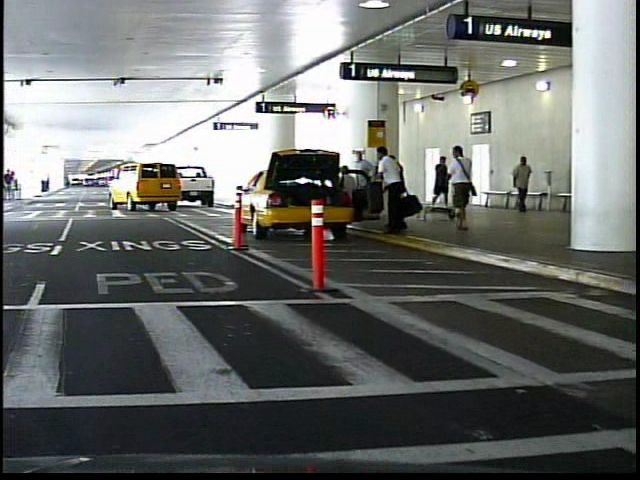person: (443, 144, 479, 234), (504, 151, 529, 213)
